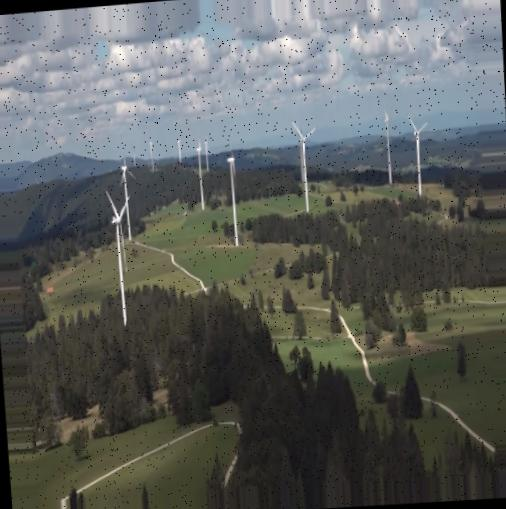wind turbine: (104, 190, 134, 329), (290, 119, 318, 212), (406, 114, 429, 196)
